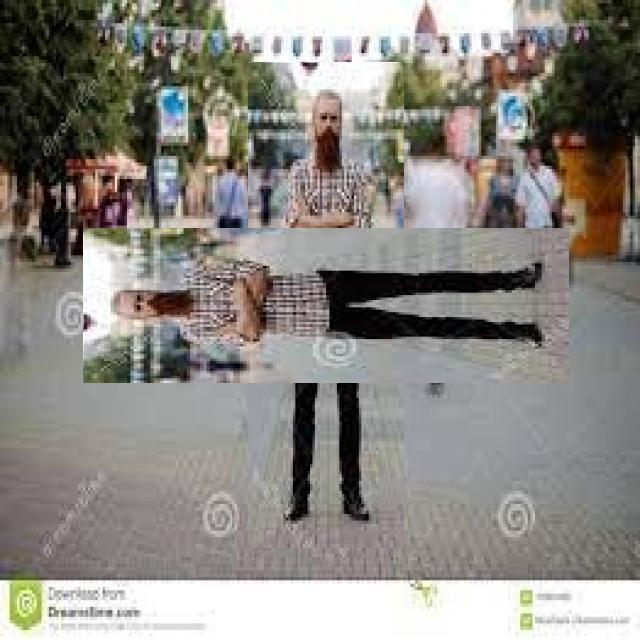NotFall: (117, 210, 640, 365)
